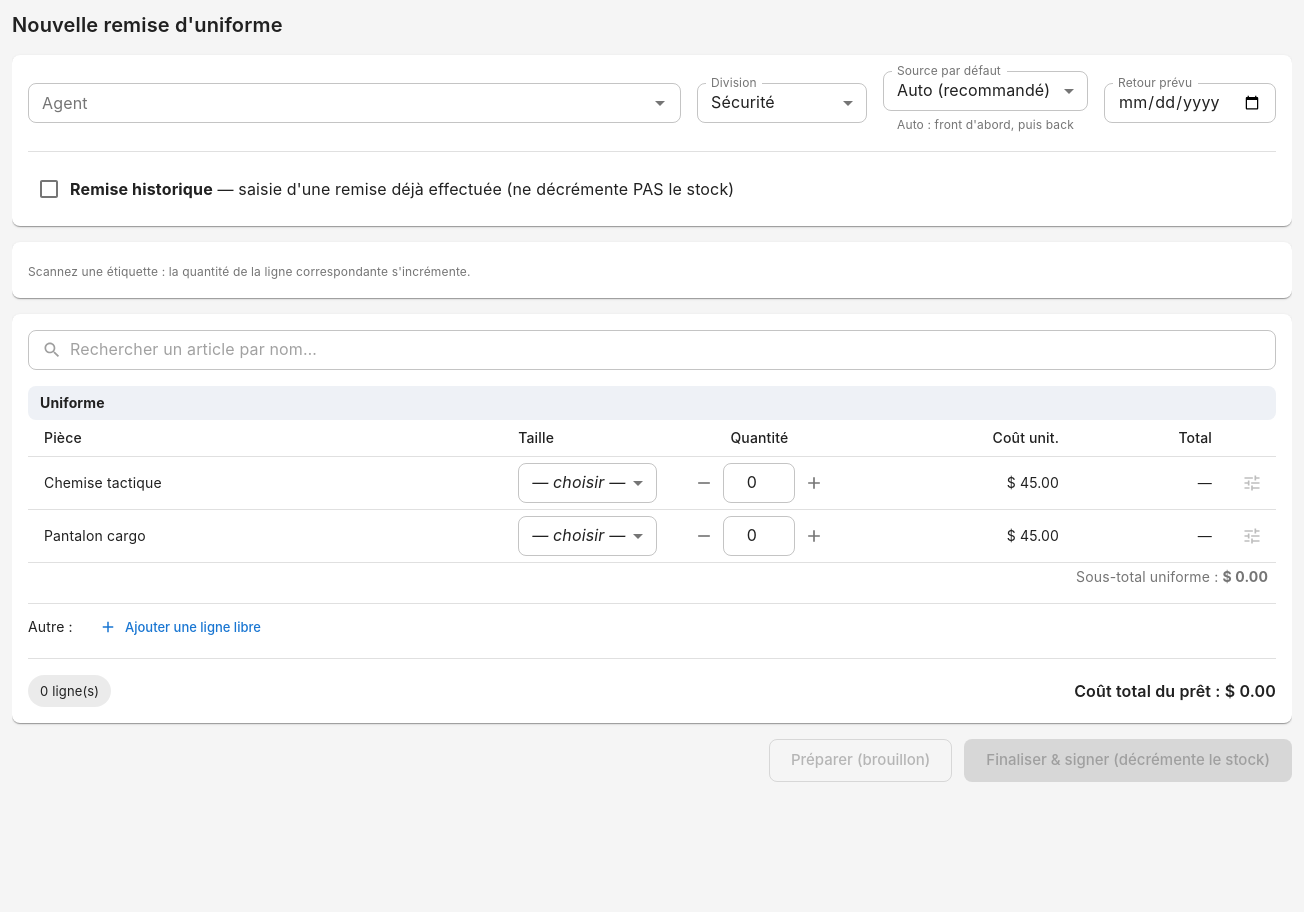
Test case: UniformIssuanceWizardPage › filtre la grille des articles via la recherche par nom
Expected: the text "Chemise tactique" is shown, x1=28 y1=456 x2=502 y2=509
Expected: the text "Pantalon cargo" is shown, x1=28 y1=509 x2=502 y2=562
Type "cargo" into the field with placeholder "Rechercher un article par nom…" at (673, 350), box x1=70 y1=330 x2=1276 y2=370
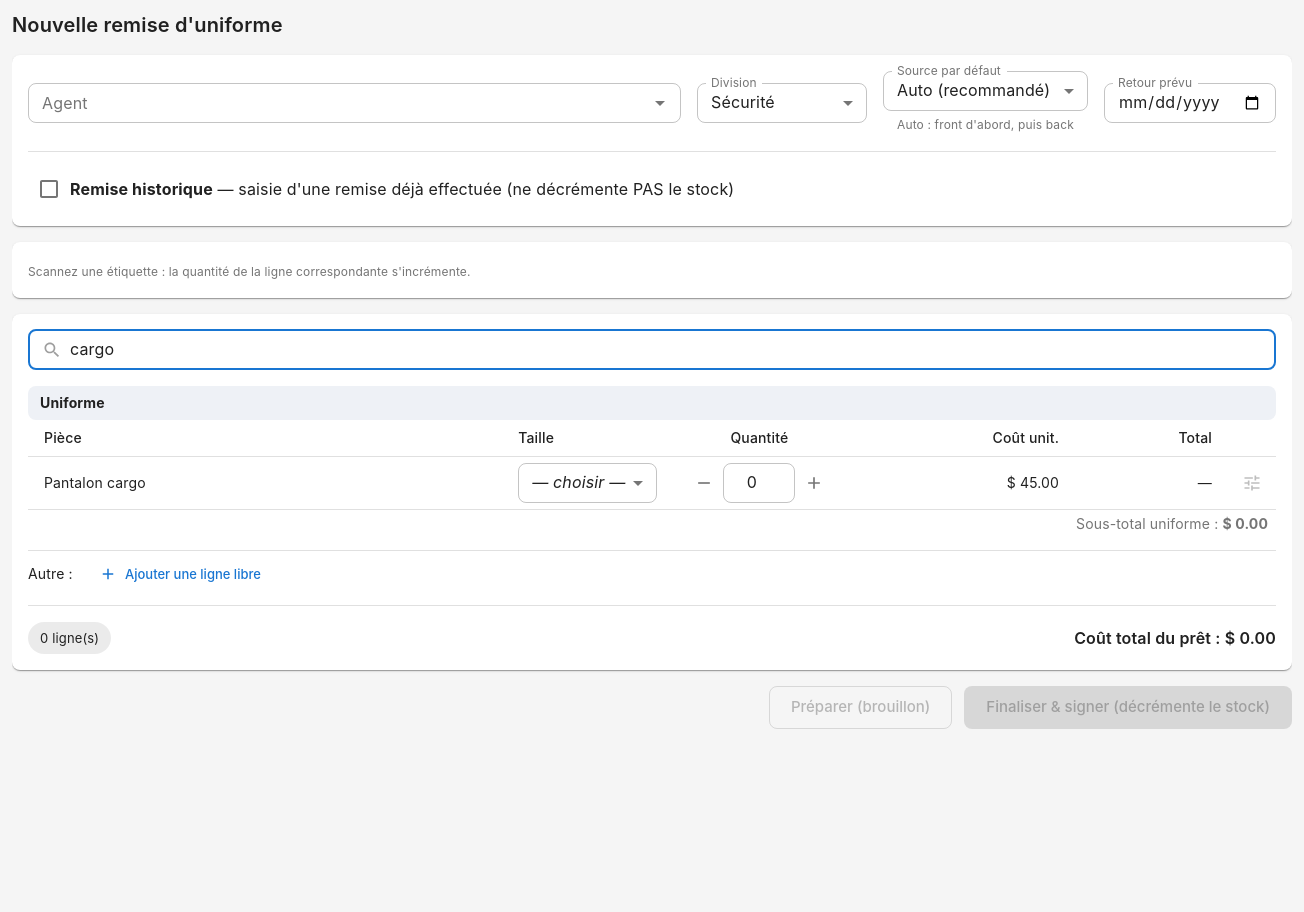
Expected: the text "Pantalon cargo" is shown, x1=28 y1=456 x2=502 y2=509
Expected: the text "Chemise tactique" is gone
